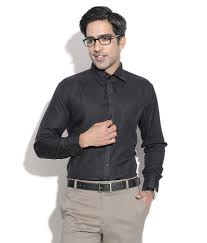F_belt: (63, 173, 151, 196)
F_shirt: (31, 72, 170, 188)
